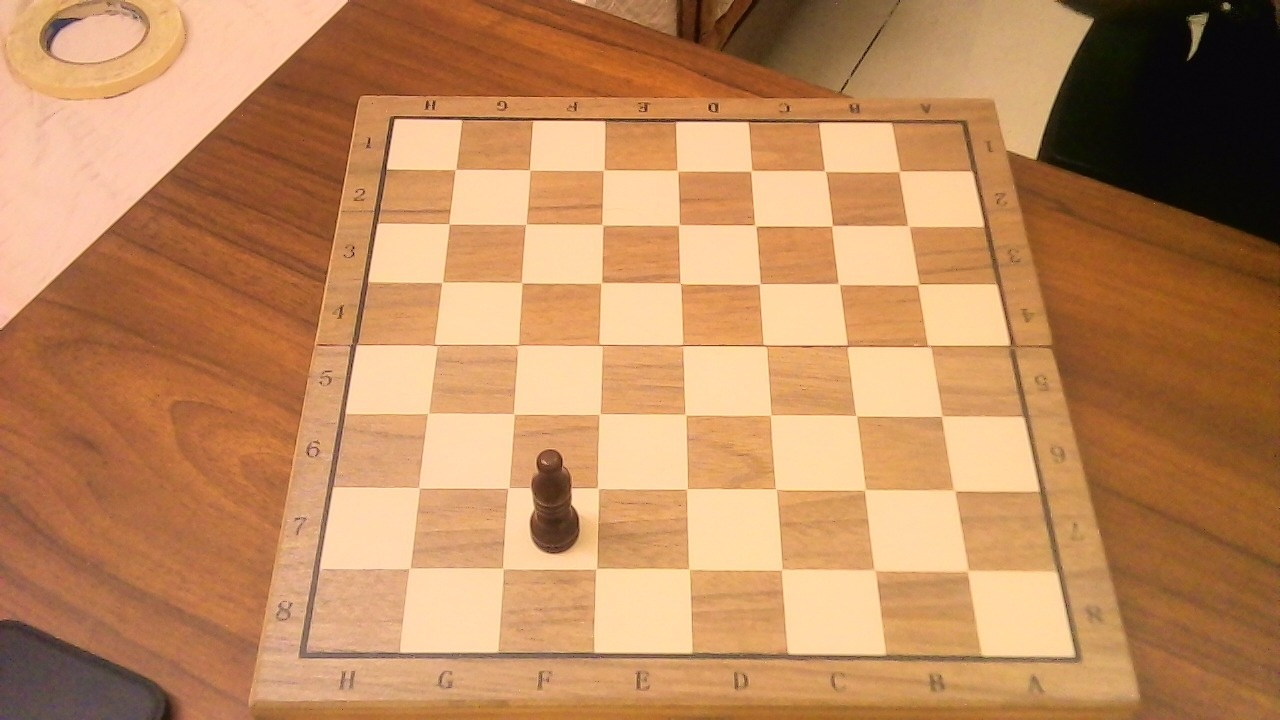b: (516, 436, 591, 559)
